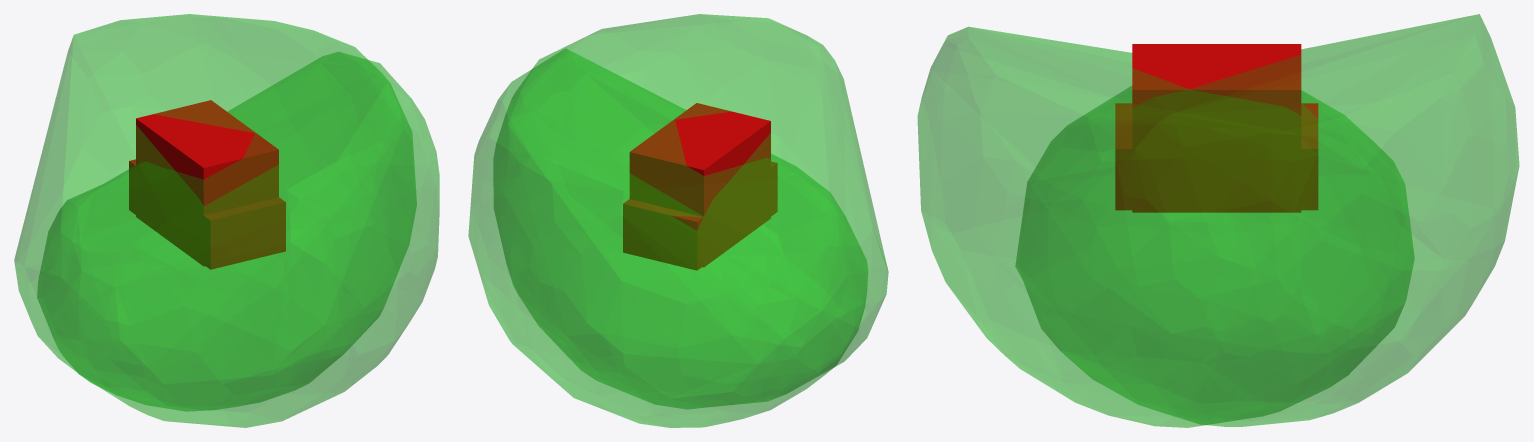
File: talos_trunk_lower_visual.dae
3 renders of one model, left to right at view 1: azimuth 30°, elevation 25°; view 2: azimuth 150°, elevation 25°; view 3: azimuth 270°, elevation 25°, orthographic. The views are drawn at different scales.
Visible parts, largest first — view 1: foo, foo_002, trunk_lower; view 2: foo_002, foo, trunk_lower; view 3: foo, foo_002, trunk_lower.
Boxes of the visible parts, x1,y1,x2,y2 form: foo: (14, 14, 416, 411); foo_002: (37, 52, 439, 427); trunk_lower: (129, 100, 285, 269); foo_002: (493, 14, 888, 409); foo: (468, 48, 867, 427); trunk_lower: (623, 103, 777, 270); foo: (1015, 14, 1519, 426); foo_002: (917, 26, 1414, 427); trunk_lower: (1115, 44, 1318, 212).
Bounding box in the file's own units: 1.49 × 1.78 × 1.26.
